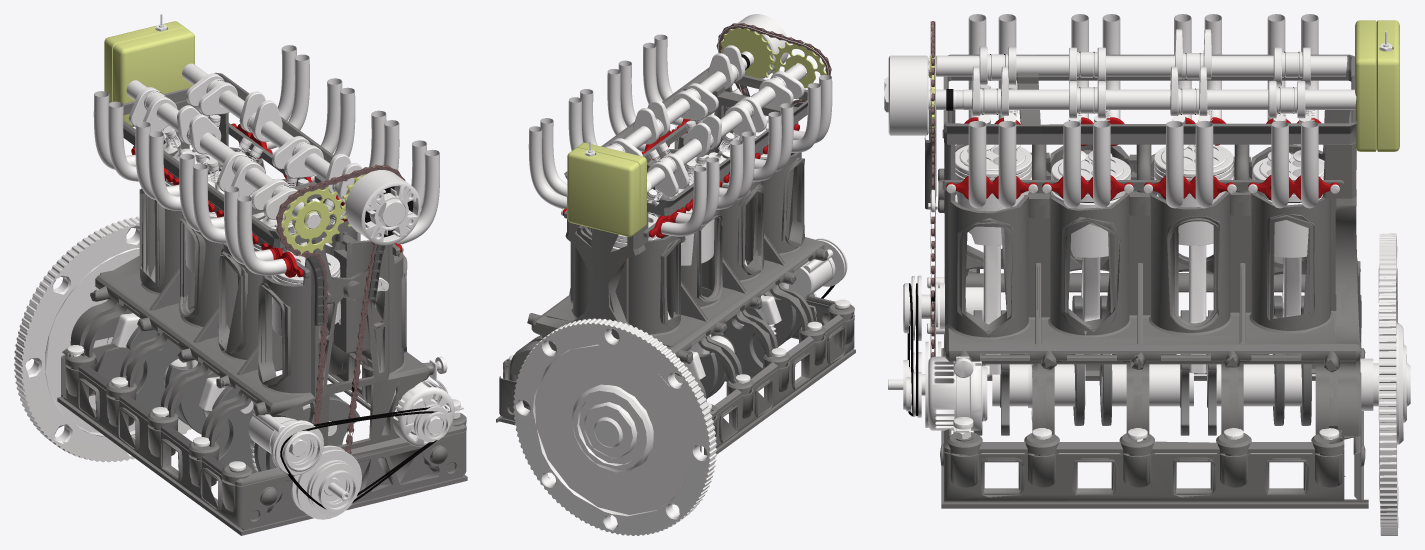
The model's file is engine.glb.
The picture shows the model from 3 angles, left to right: view 1: azimuth 30°, elevation 25°; view 2: azimuth 150°, elevation 25°; view 3: azimuth 270°, elevation 25°; orthographic projection. The views are drawn at different scales.
Visible parts, largest first — view 1: Frame.001_89, Frame.000_85, Schijf_153, Cube.013_67, Cylinder.003_70, Schakel1_151, Cube_55, Tandwiel.002_156, Circle.013_42, Circle.021_53, Cube.006_60, Cube.004_58 (+41 smaller); view 2: Schijf_153, Frame.001_89, Frame.000_85, Cube.013_67, Cube_55, Cube.006_60, Circle.007_36, Tandwiel.001_155, NurbsPath.036_142, NurbsPath.028_134, Cylinder.009_78, Cube.004_58 (+31 smaller); view 3: Frame.001_89, Frame.000_85, Cube_55, Circle.003_32, Schijf_153, Cube.013_67, Cube.004_58, Cube.006_60, Cylinder.003_70, Cylinder.007_77, Circle_29, Cylinder.004_71 (+44 smaller).
Part boxes in pixels (bbox=[...]): Frame.001_89: bbox=[62, 100, 433, 449]; Frame.000_85: bbox=[57, 340, 467, 535]; Schijf_153: bbox=[14, 216, 191, 462]; Cube.013_67: bbox=[104, 21, 194, 126]; Cylinder.003_70: bbox=[345, 170, 420, 245]; Schakel1_151: bbox=[276, 164, 405, 454]; Cube_55: bbox=[122, 72, 354, 248]; Tandwiel.002_156: bbox=[281, 185, 344, 254]; Circle.013_42: bbox=[126, 327, 181, 411]; Circle.021_53: bbox=[271, 420, 323, 475]; Cube.006_60: bbox=[126, 80, 317, 216]; Cube.004_58: bbox=[182, 63, 381, 222]; Schijf_153: bbox=[513, 318, 716, 535]; Frame.001_89: bbox=[510, 86, 828, 410]; Frame.000_85: bbox=[496, 287, 855, 455]; Cube.013_67: bbox=[567, 142, 646, 236]; Cube_55: bbox=[564, 67, 807, 215]; Cube.006_60: bbox=[647, 64, 805, 191]; Circle.007_36: bbox=[711, 307, 768, 381]; Tandwiel.001_155: bbox=[720, 24, 774, 78]; NurbsPath.036_142: bbox=[661, 166, 706, 236]; NurbsPath.028_134: bbox=[528, 126, 566, 209]; Cylinder.009_78: bbox=[788, 249, 835, 298]; Cube.004_58: bbox=[624, 51, 753, 148]; Frame.001_89: bbox=[938, 110, 1361, 440]; Frame.000_85: bbox=[940, 316, 1368, 508]; Cube_55: bbox=[943, 54, 1356, 144]; Circle.003_32: bbox=[888, 363, 1410, 406]; Schijf_153: bbox=[1378, 233, 1406, 535]; Cube.013_67: bbox=[1355, 20, 1399, 151]; Cube.004_58: bbox=[928, 89, 1356, 109]; Cube.006_60: bbox=[936, 55, 1347, 76]; Cylinder.003_70: bbox=[888, 55, 928, 135]; Cylinder.007_77: bbox=[928, 356, 987, 430]; Circle_29: bbox=[946, 175, 1339, 199]; Cylinder.004_71: bbox=[1154, 144, 1233, 245].
Bounding box in the file's own units: 8.87 × 14 × 13.18.
